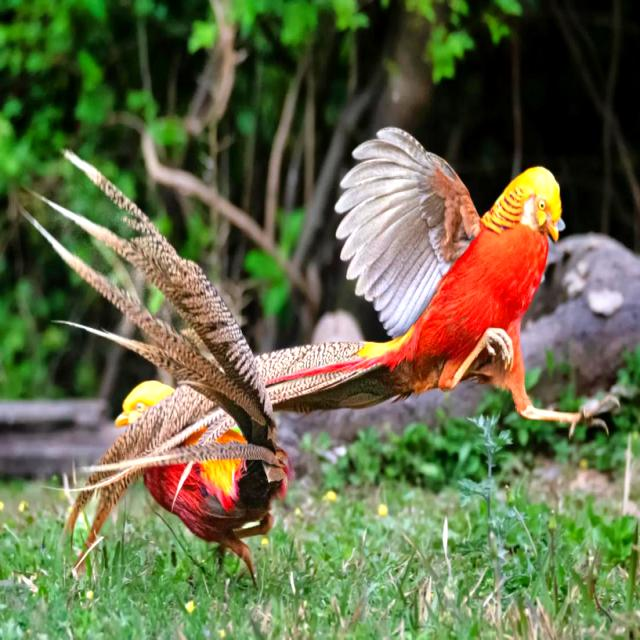Chrysolophus pictus feather: (30, 150, 289, 484), (68, 340, 413, 575)
